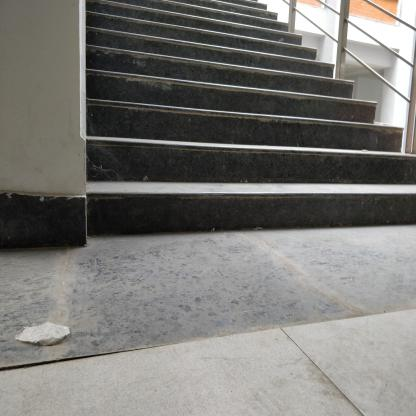stairs: (92, 10, 283, 246)
